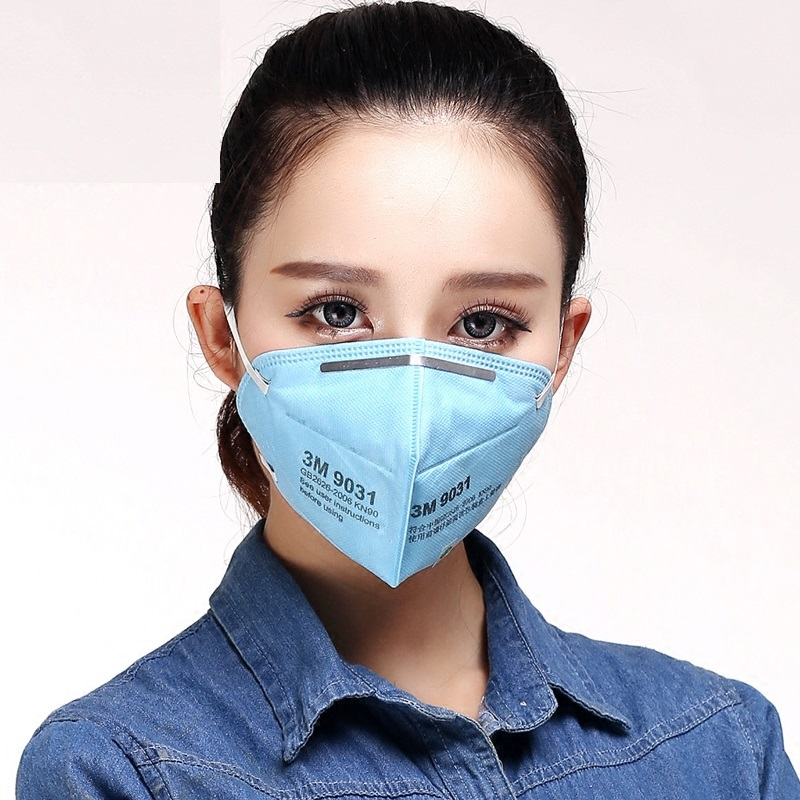face_mask: (241, 124, 561, 572)
